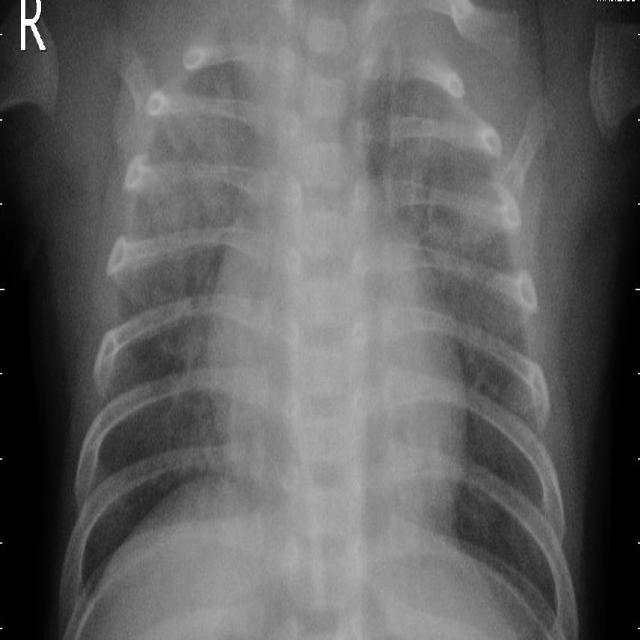low-pneumonia: (363, 60, 504, 292), (126, 77, 236, 294), (150, 312, 225, 490)
